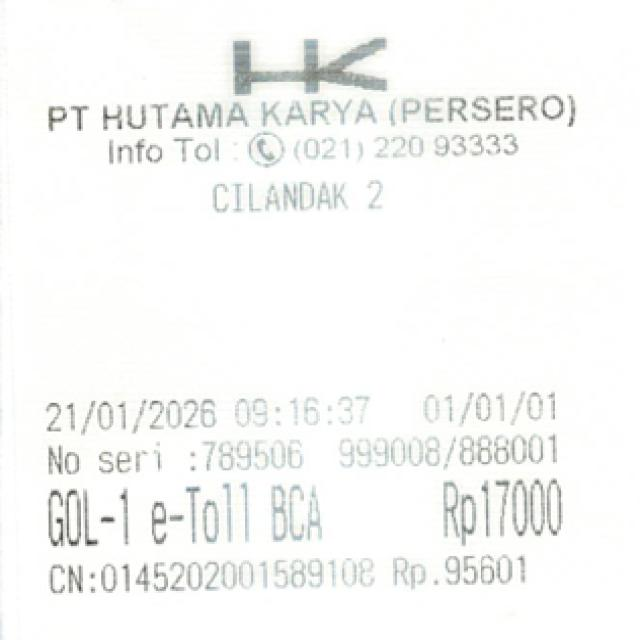date: (34, 390, 373, 427)
store: (37, 93, 579, 135)
total: (422, 470, 577, 542)
